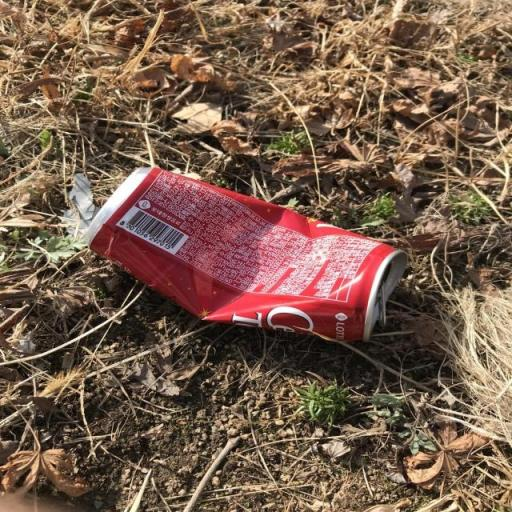metal: (72, 155, 428, 355)
